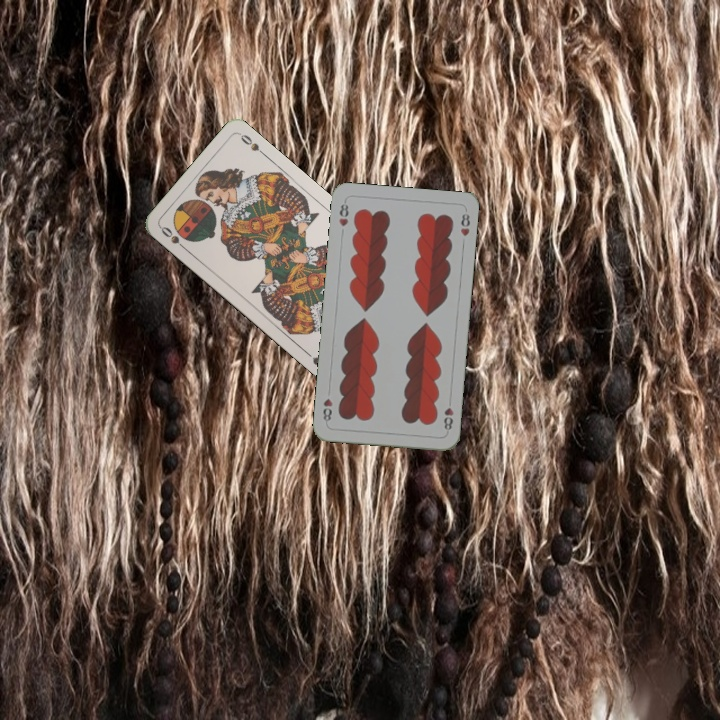H8: (335, 197, 351, 229), (440, 404, 456, 433)
SO: (157, 222, 190, 254)
